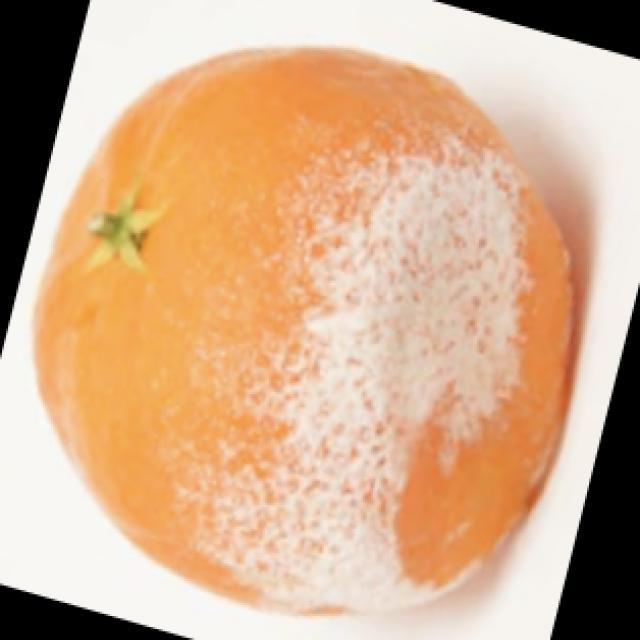sedikit-busuk: (36, 51, 571, 613), (178, 140, 530, 610)
